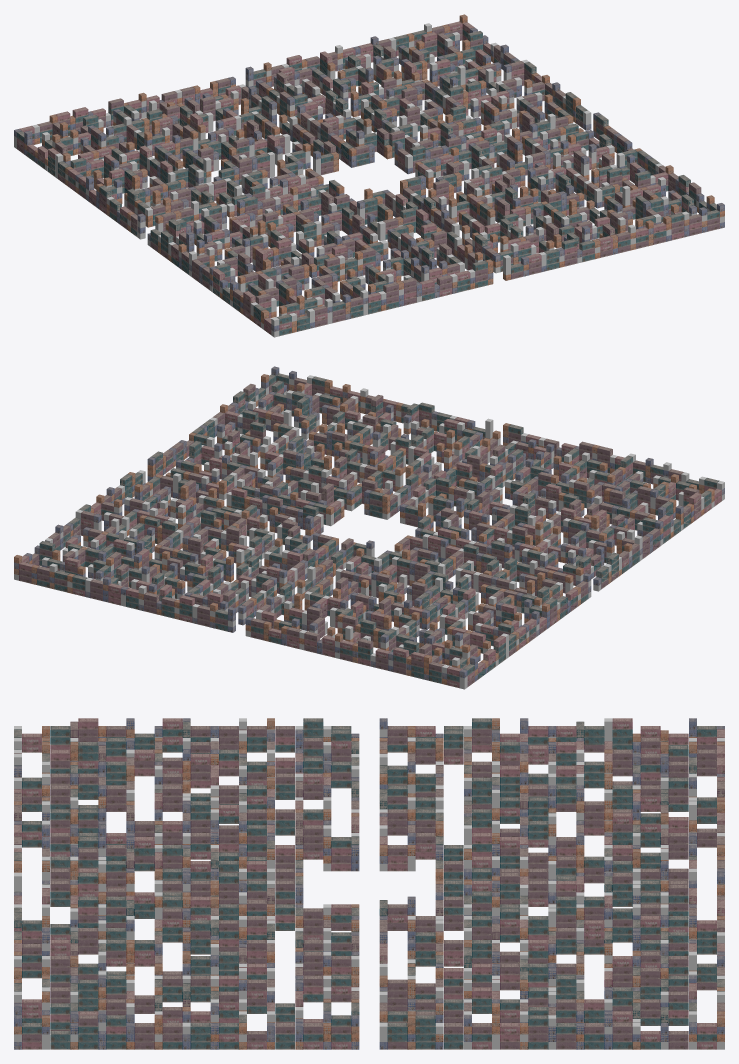
Rendered from PackedContainer.fbx.
3 views of the same model, one above another, from view 1: azimuth 30°, elevation 25°; view 2: azimuth 150°, elevation 25°; view 3: azimuth 270°, elevation 25° (orthographic). The views are drawn at different scales.
Parts seen in each view (by area): view 1: PackedContainer; view 2: PackedContainer; view 3: PackedContainer.
Part boxes in pixels (x1=…): PackedContainer: x1=14, y1=14, x2=724, y2=337; PackedContainer: x1=14, y1=366, x2=724, y2=689; PackedContainer: x1=14, y1=718, x2=724, y2=1049.
Bounding box in the file's own units: 10790 × 518 × 10790.
